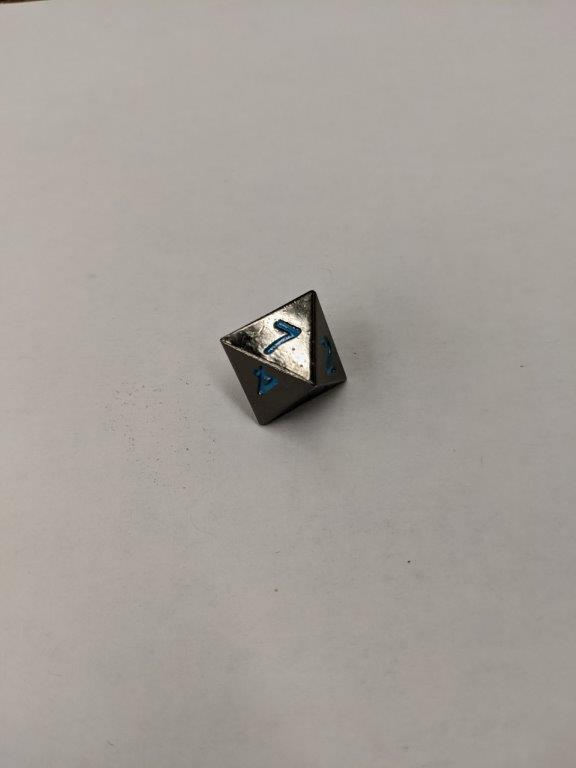d8-7: (220, 288, 349, 427)
